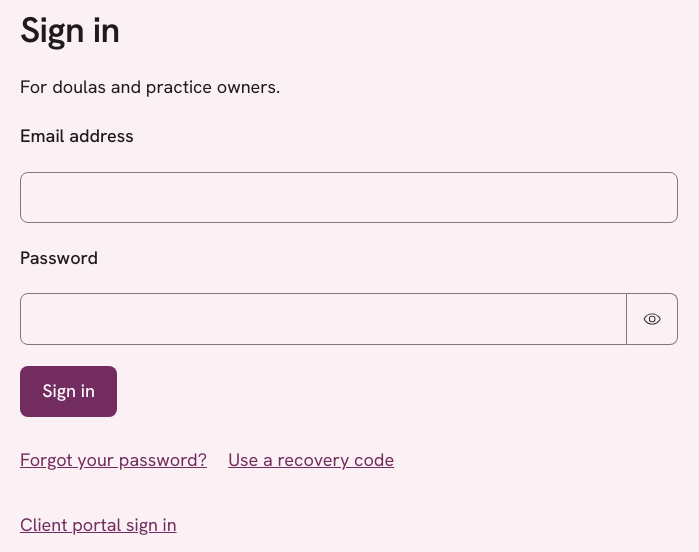
Scenario: Staff login -- the TOTP sign-in challenge (#606) › challenges for the code instead of showing a refusal, and asks for nothing else
The width and height of the screenshot is (699, 552).
Step 1. Type "priya@example.com" into the field labelled "Email address" → (349, 197), box top-left (20, 172), bottom-right (678, 223)
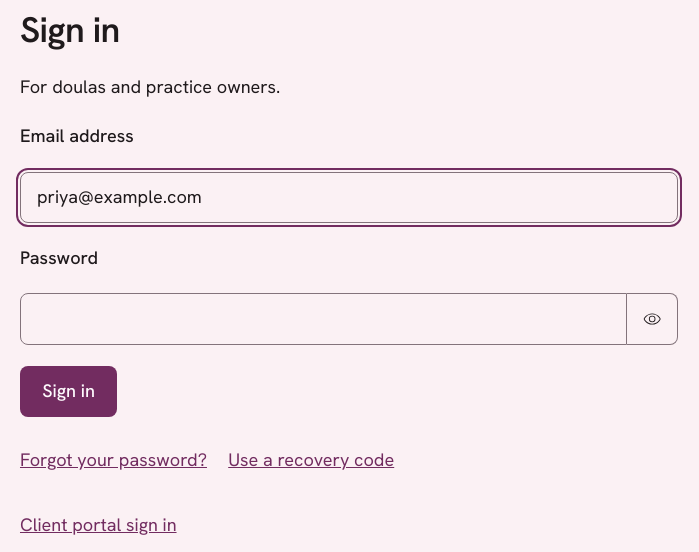
Step 2. Type "correct horse" into the password field labelled "Password" → (323, 319), box top-left (20, 293), bottom-right (627, 344)
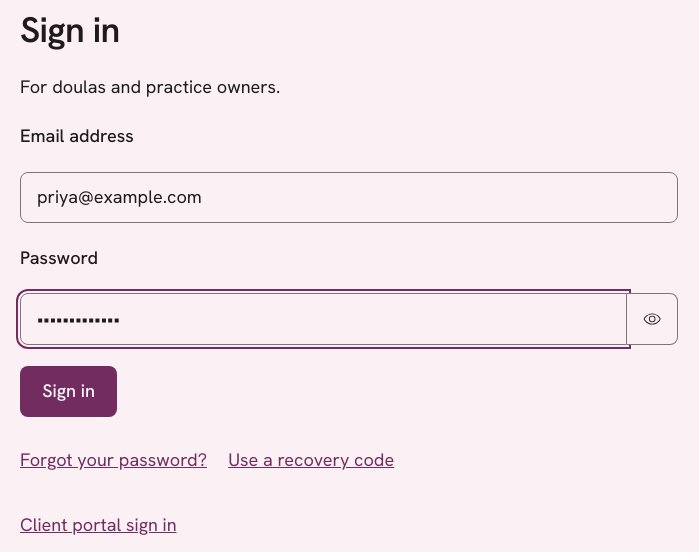
Step 3. Click the button "Sign in" → click(69, 391), box top-left (20, 366), bottom-right (117, 417)
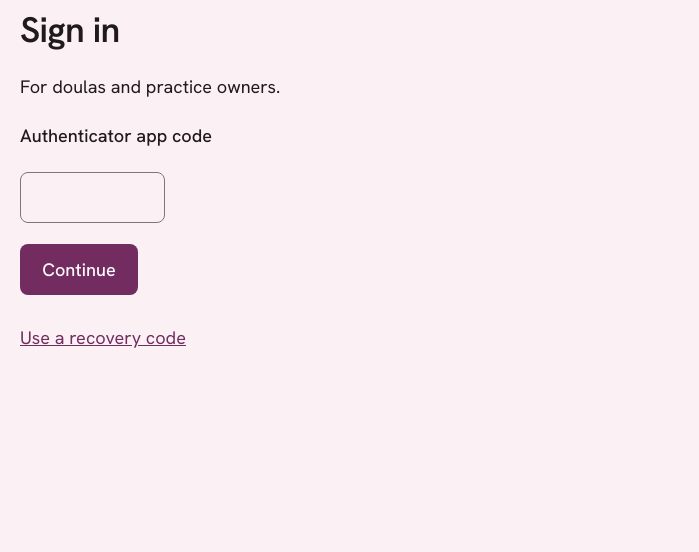
Expected: the field labelled "Authenticator app code" is shown, top-left (20, 172), bottom-right (165, 223)
